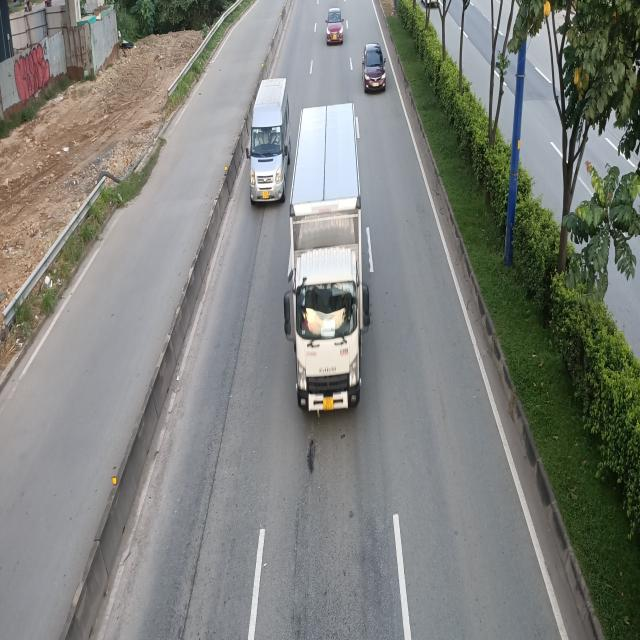car: (361, 44, 386, 94), (326, 8, 344, 46)
truck: (281, 104, 369, 420)
van: (247, 80, 292, 208)
